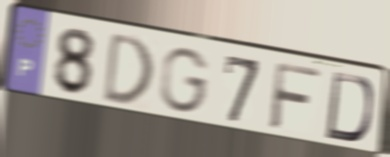7: (222, 52, 263, 124)
8: (53, 27, 98, 97)
D: (100, 29, 156, 107), (322, 69, 375, 145)
F: (266, 59, 324, 134)
G: (158, 46, 213, 116)
